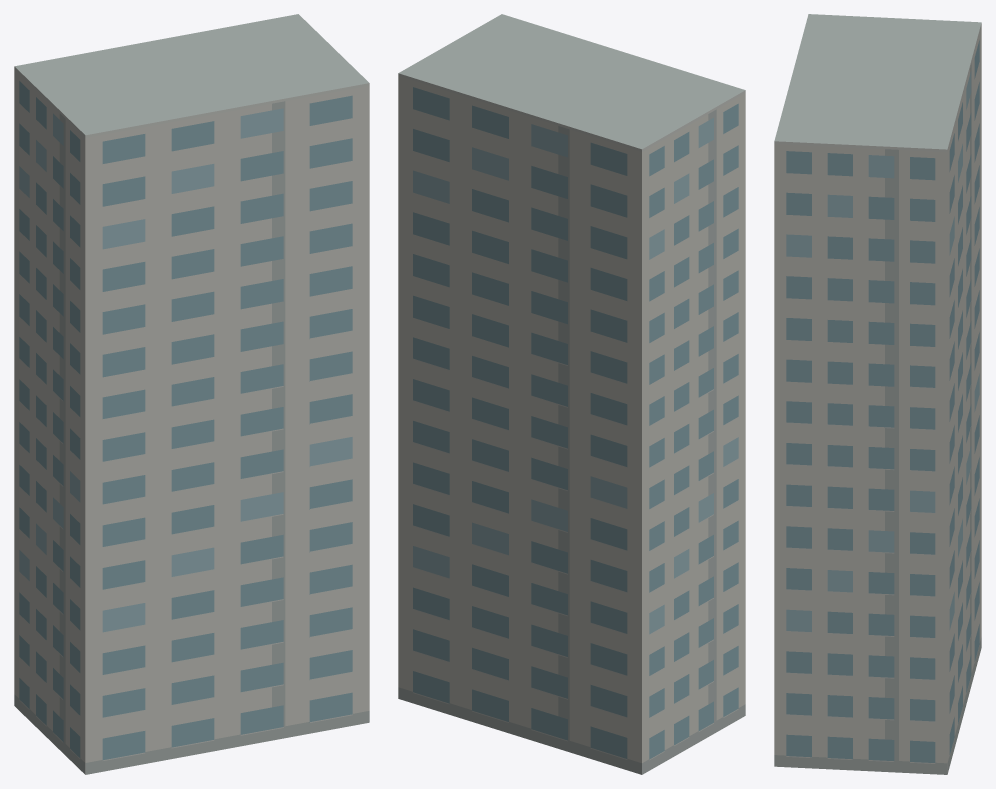
File: residential-9b0119b8-0033-441a-bbf3-107dbaa3ee51.glb
3 renders of one model, left to right at view 1: azimuth 30°, elevation 25°; view 2: azimuth 150°, elevation 25°; view 3: azimuth 270°, elevation 25°, orthographic. The views are drawn at different scales.
Visible parts, largest first — view 1: residential-9b0119b8-0033-441a-bbf3-107dbaa3ee51.tmp; view 2: residential-9b0119b8-0033-441a-bbf3-107dbaa3ee51.tmp; view 3: residential-9b0119b8-0033-441a-bbf3-107dbaa3ee51.tmp.
Part boxes in pixels (<box>): residential-9b0119b8-0033-441a-bbf3-107dbaa3ee51.tmp: <box>14,14,369,774</box>; residential-9b0119b8-0033-441a-bbf3-107dbaa3ee51.tmp: <box>398,14,745,774</box>; residential-9b0119b8-0033-441a-bbf3-107dbaa3ee51.tmp: <box>774,14,981,774</box>.
Size of the model in its own units: 26.97 by 58 by 17.43.
